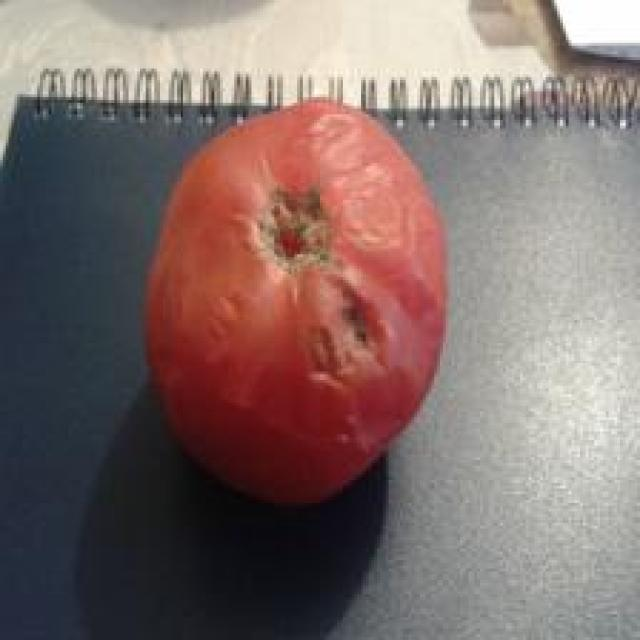overripe: (137, 93, 452, 512)
